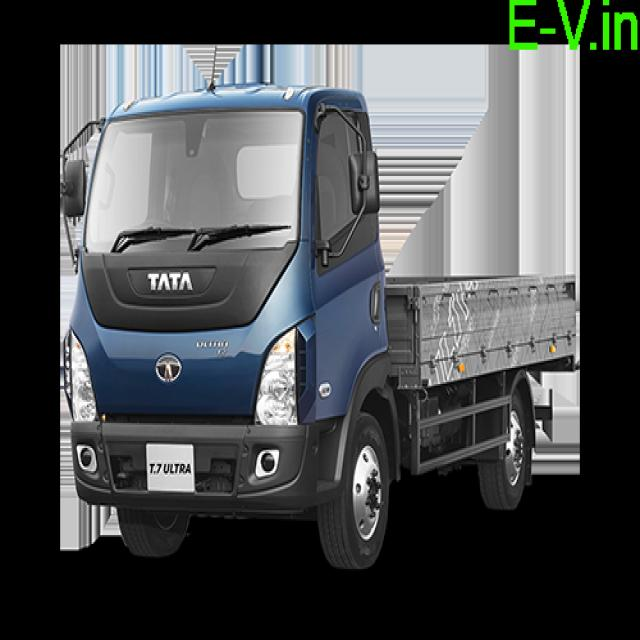truck: (61, 44, 575, 569)
